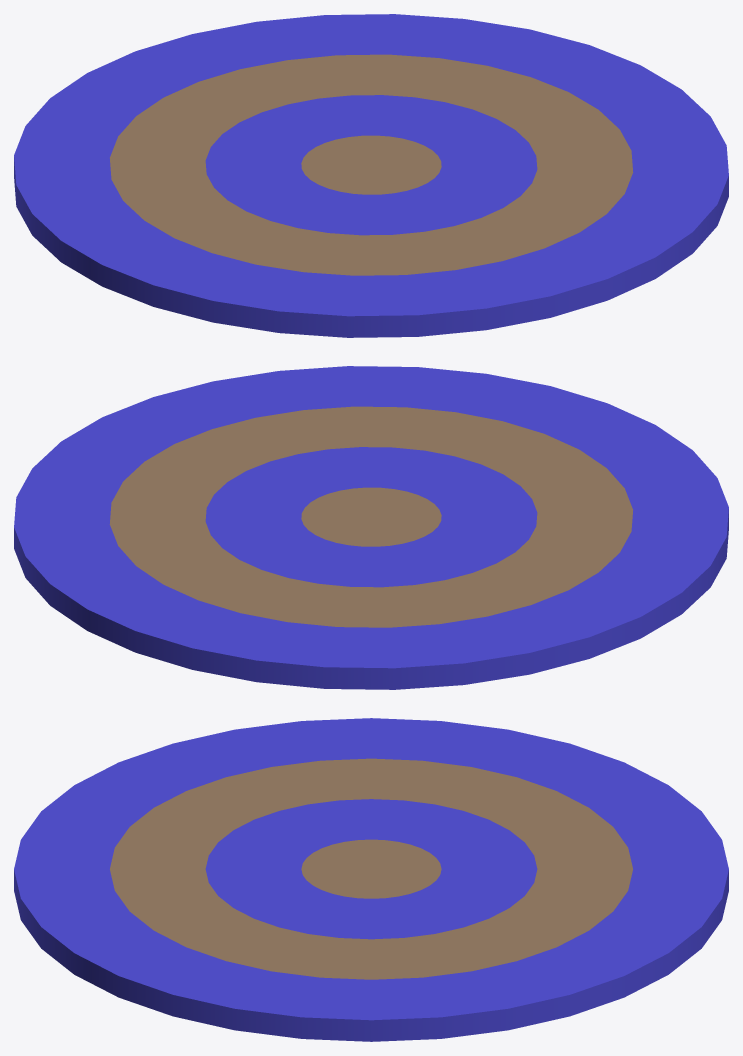
File: SM_Cible_low.fbx
3 renders of one model, top to bottom at view 1: azimuth 30°, elevation 25°; view 2: azimuth 150°, elevation 25°; view 3: azimuth 270°, elevation 25°, orthographic.
Parts seen in each view (by area): view 1: SM_Cible_low; view 2: SM_Cible_low; view 3: SM_Cible_low.
Part boxes in pixels (x1,y1,x2,y2): SM_Cible_low: (14, 14, 728, 337); SM_Cible_low: (14, 366, 728, 689); SM_Cible_low: (14, 718, 728, 1041).
Size of the model in its own units: 300 by 10 by 300.
